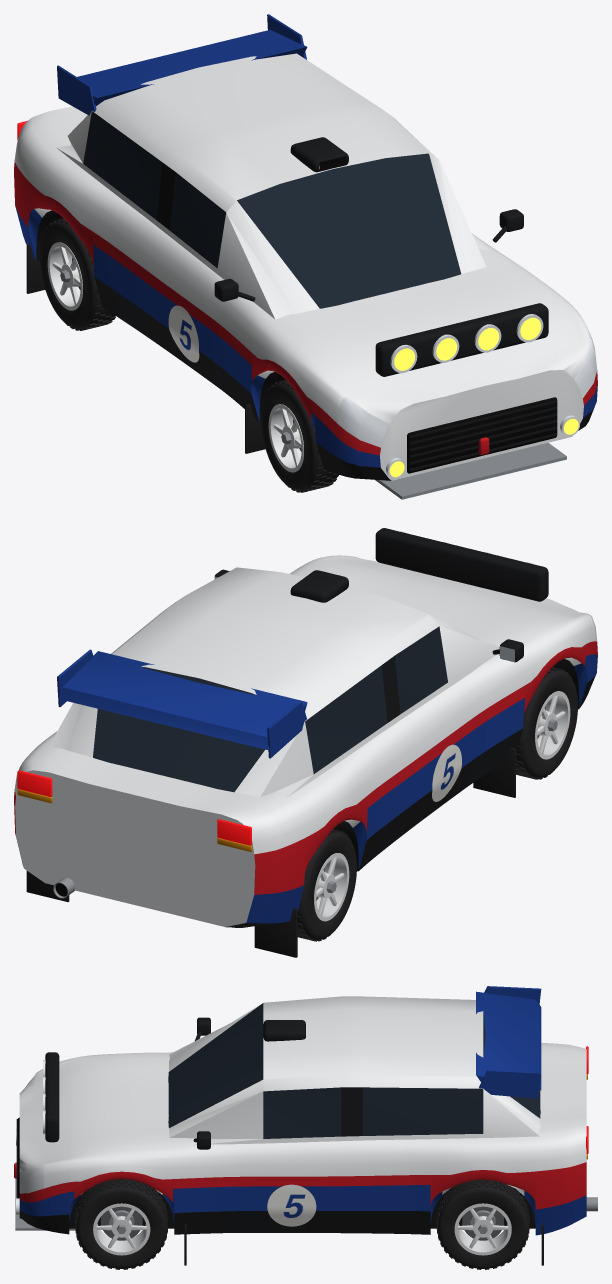
The model's file is rally_car.glb.
3 views of the same model, one above another, from view 1: azimuth 30°, elevation 25°; view 2: azimuth 150°, elevation 25°; view 3: azimuth 270°, elevation 25° (orthographic). The views are drawn at different scales.
Visible parts, largest first — view 1: Body, Wheel_FR, Wheel_RR; view 2: Body, Wheel_FR, Wheel_RR; view 3: Body, Wheel_FL, Wheel_RL.
Boxes of the visible parts, x1,y1,x2,y2 form: Body: [14, 14, 597, 499]; Wheel_FR: [261, 380, 338, 492]; Wheel_RR: [40, 218, 115, 330]; Body: [14, 528, 597, 957]; Wheel_FR: [516, 667, 577, 779]; Wheel_RR: [297, 829, 356, 941]; Body: [14, 986, 597, 1265]; Wheel_FL: [75, 1179, 167, 1269]; Wheel_RL: [436, 1179, 529, 1269].
Bounding box in the file's own units: 2.02 × 1.5 × 4.12.
21 materials, 2 textured.
